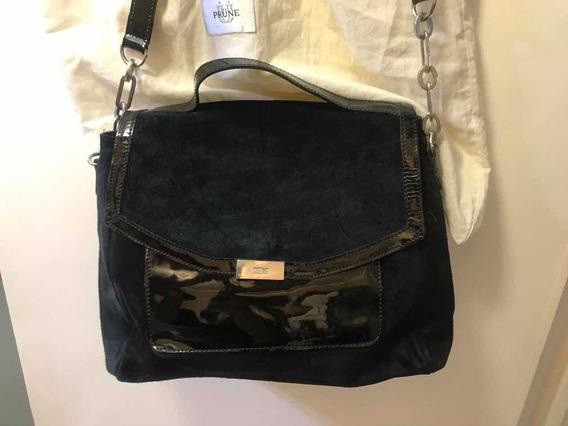cartera: (91, 1, 456, 390)
